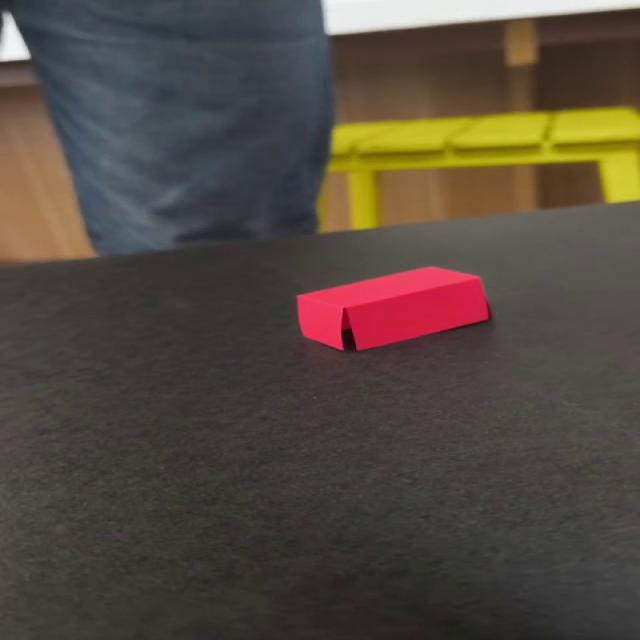red block: (295, 264, 492, 352)
